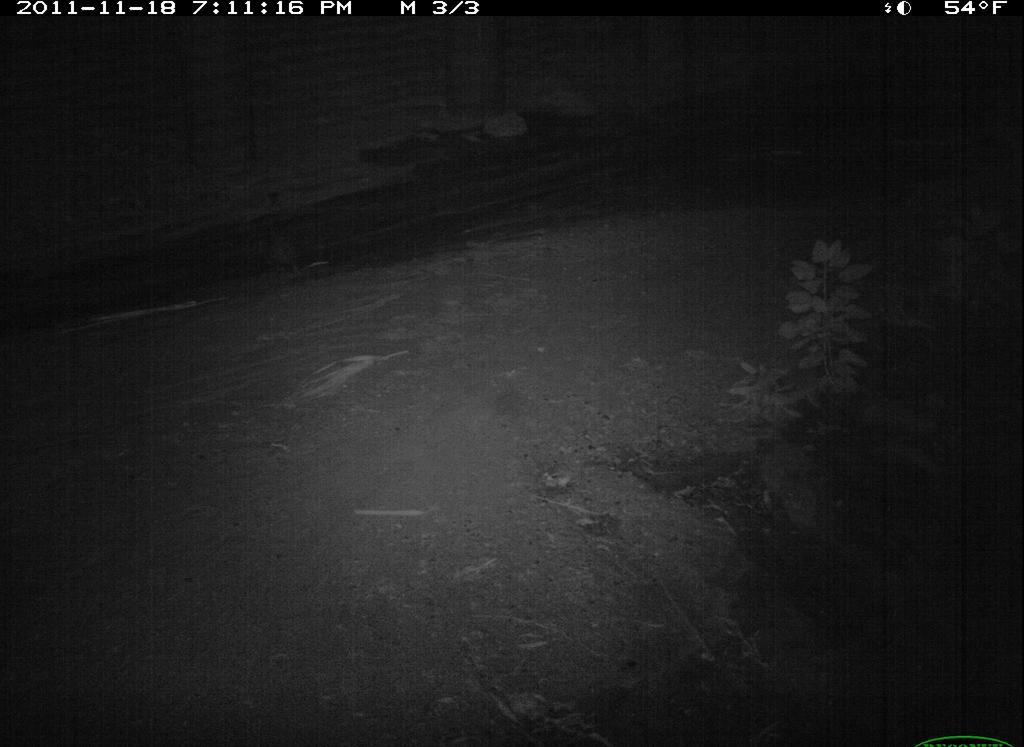opossum: (248, 204, 340, 303)
